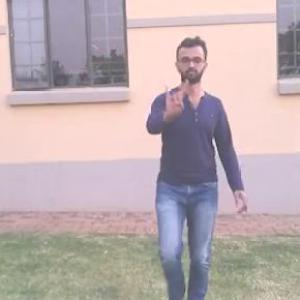takeoff-hand: (154, 75, 188, 124)
